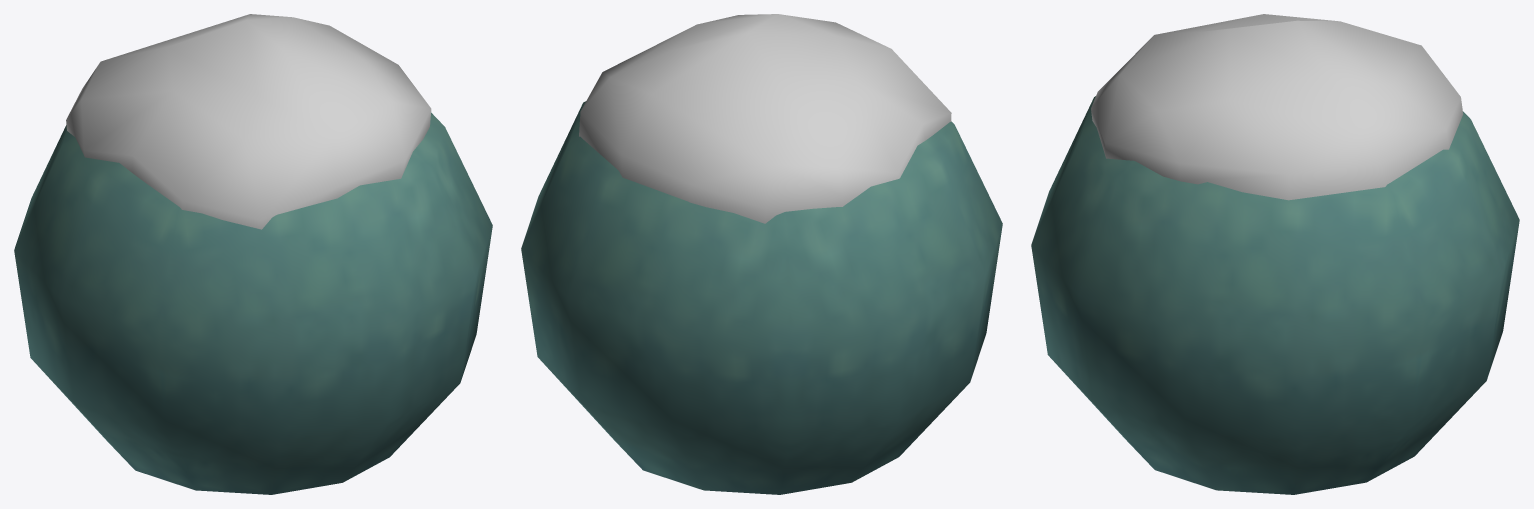
File: pref_sm_city_gtree03_snow_lv3.fbx
3 renders of one model, left to right at view 1: azimuth 30°, elevation 25°; view 2: azimuth 150°, elevation 25°; view 3: azimuth 270°, elevation 25°, orthographic. The views are drawn at different scales.
Visible parts, largest first — view 1: sm_city_gtree03_snow_lv3, sm_city_gtree03c_snow_lv3; view 2: sm_city_gtree03_snow_lv3, sm_city_gtree03c_snow_lv3; view 3: sm_city_gtree03_snow_lv3, sm_city_gtree03c_snow_lv3.
Boxes of the visible parts, x1=… form: sm_city_gtree03_snow_lv3: x1=14, y1=112, x2=492, y2=494; sm_city_gtree03c_snow_lv3: x1=66, y1=14, x2=431, y2=229; sm_city_gtree03_snow_lv3: x1=521, y1=101, x2=1002, y2=494; sm_city_gtree03c_snow_lv3: x1=579, y1=14, x2=951, y2=223; sm_city_gtree03_snow_lv3: x1=1031, y1=96, x2=1519, y2=494; sm_city_gtree03c_snow_lv3: x1=1091, y1=14, x2=1463, y2=200.
Size of the model in its own units: 1.22 by 1.14 by 1.22.
